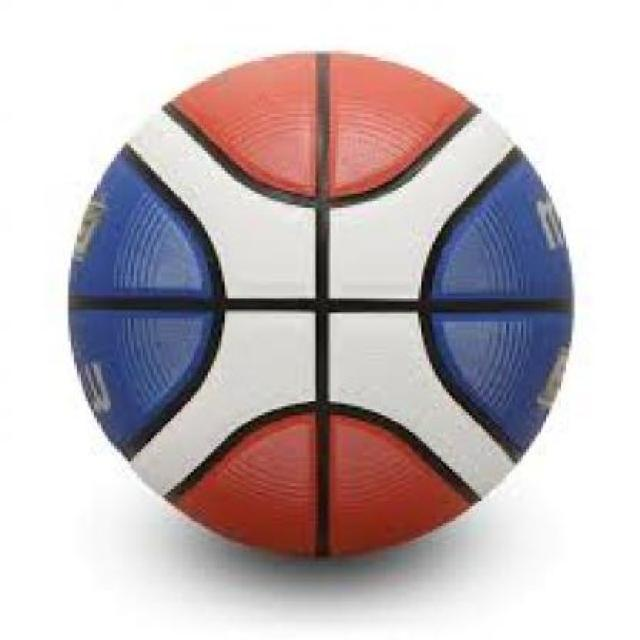basketball: (71, 54, 573, 558)
